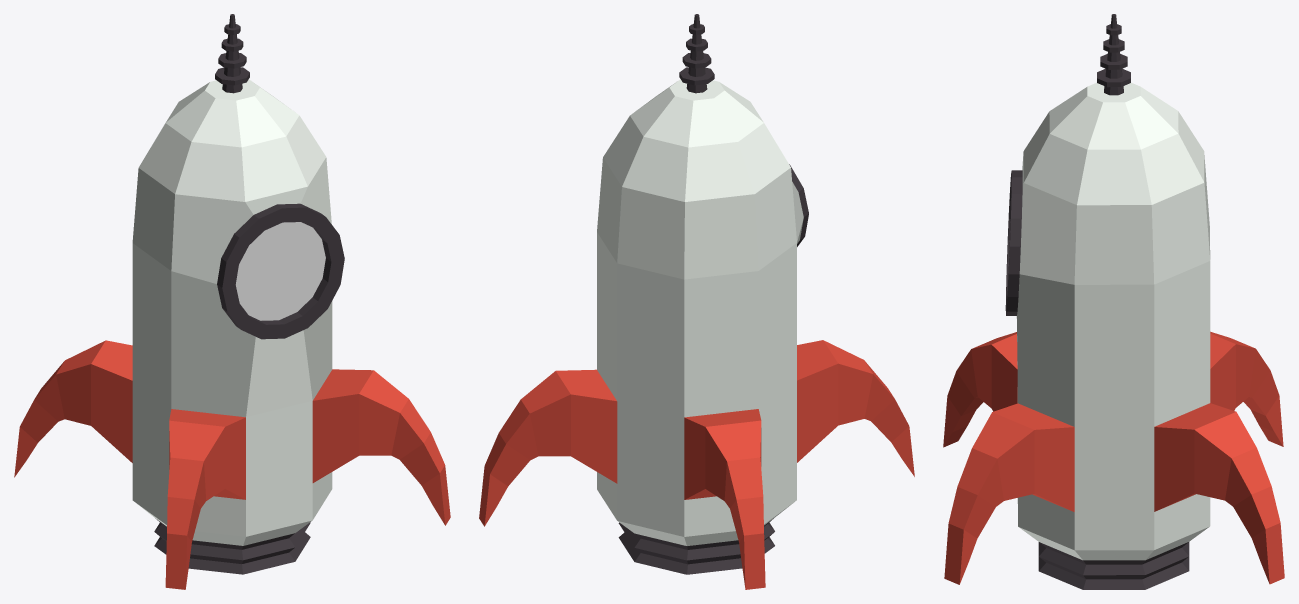
File: JAM1_Rocket.fbx
3 renders of one model, left to right at view 1: azimuth 30°, elevation 25°; view 2: azimuth 150°, elevation 25°; view 3: azimuth 270°, elevation 25°, orthographic. The views are drawn at different scales.
Parts seen in each view (by area): view 1: Rocket, Window; view 2: Rocket; view 3: Rocket.
Boxes of the visible parts, x1,y1,x2,y2 form: Rocket: [14, 14, 450, 589]; Window: [235, 222, 325, 320]; Rocket: [479, 14, 914, 589]; Rocket: [943, 14, 1284, 589].
Bounding box in the file's own units: 328 × 576 × 328.
